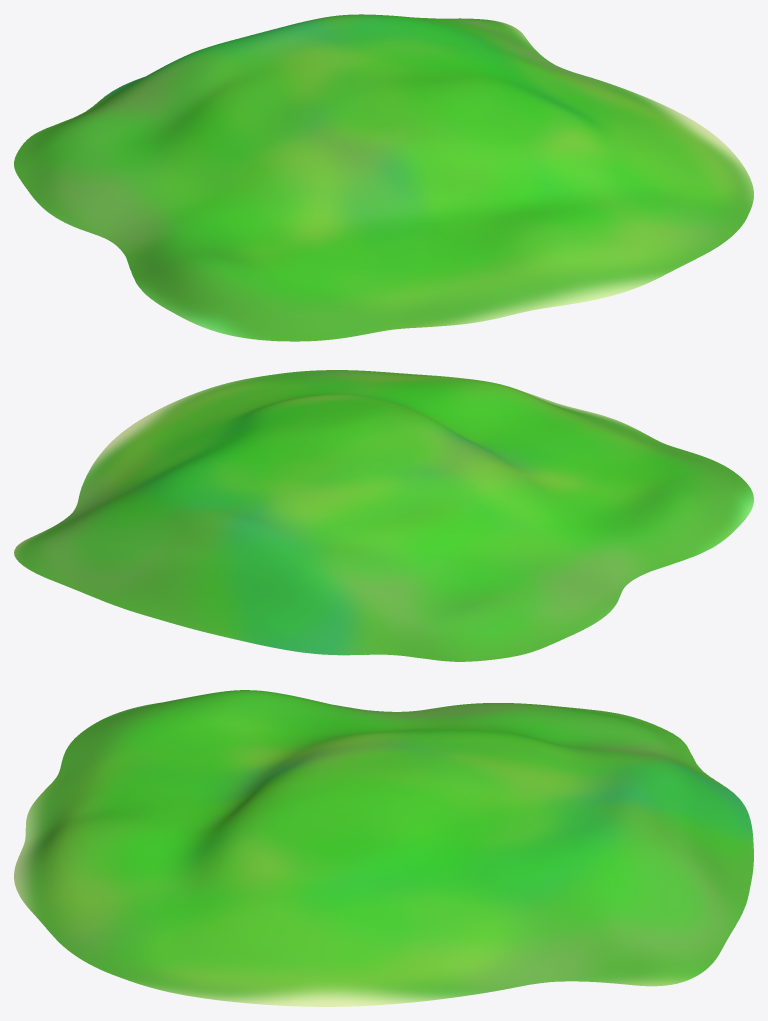
Rendered from prototype_island_2.obj.
3 views of the same model, one above another, from view 1: azimuth 30°, elevation 25°; view 2: azimuth 150°, elevation 25°; view 3: azimuth 270°, elevation 25° (orthographic). The views are drawn at different scales.
Visible parts, largest first — view 1: Plane.001; view 2: Plane.001; view 3: Plane.001.
Boxes of the visible parts, bbox=[...] form: Plane.001: bbox=[14, 14, 753, 341]; Plane.001: bbox=[14, 370, 753, 661]; Plane.001: bbox=[14, 690, 753, 1006].
Size of the model in its own units: 17.07 by 2.13 by 17.21.
